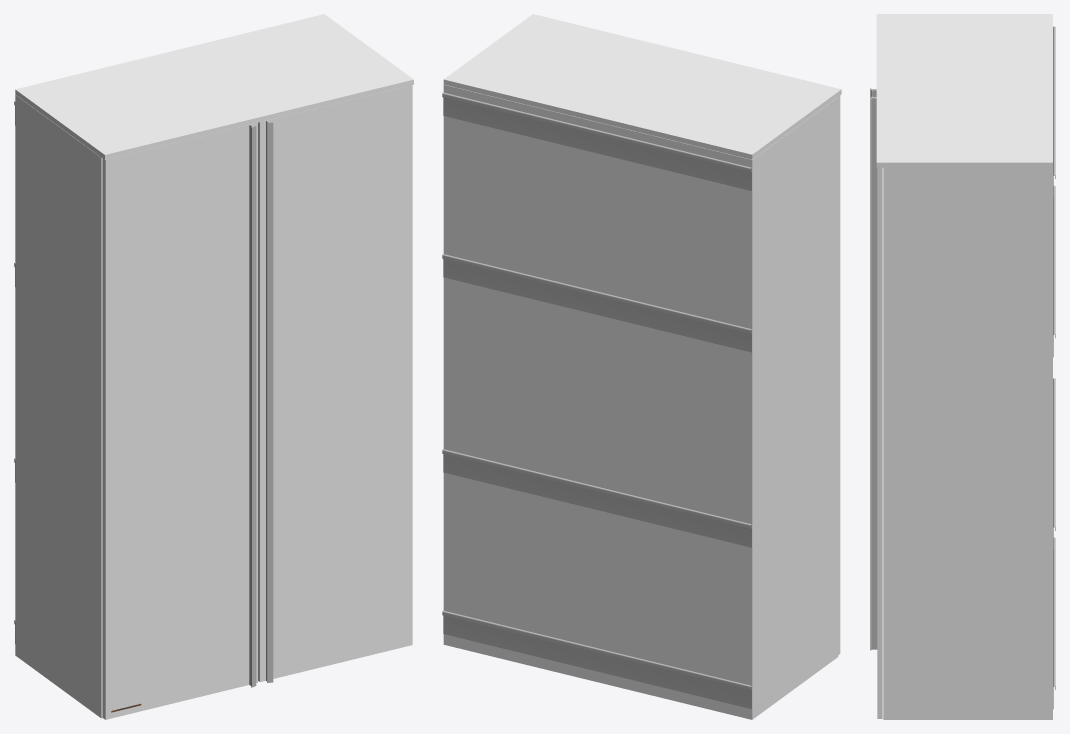
The picture shows the model from 3 angles, left to right: view 1: azimuth 30°, elevation 25°; view 2: azimuth 150°, elevation 25°; view 3: azimuth 270°, elevation 25°; orthographic projection.
Parts seen in each view (by area): view 1: mesh8_mesh8-geometry, mesh10_mesh10-geometry, mesh6_mesh6-geometry, mesh2_mesh2-geometry; view 2: mesh5_mesh5-geometry, mesh6_mesh6-geometry, mesh1_mesh1-geometry, mesh2_mesh2-geometry, mesh3_mesh3-geometry, mesh8_mesh8-geometry; view 3: mesh3_mesh3-geometry, mesh2_mesh2-geometry, mesh10_mesh10-geometry, mesh1_mesh1-geometry.
Part boxes in pixels (x1,y1,x2,y2): mesh8_mesh8-geometry: (102, 122, 257, 719); mesh10_mesh10-geometry: (258, 85, 412, 682); mesh6_mesh6-geometry: (15, 95, 102, 718); mesh2_mesh2-geometry: (15, 14, 413, 159); mesh5_mesh5-geometry: (448, 86, 747, 718); mesh6_mesh6-geometry: (747, 97, 838, 719); mesh1_mesh1-geometry: (442, 92, 752, 709); mesh2_mesh2-geometry: (443, 14, 841, 159); mesh3_mesh3-geometry: (443, 84, 448, 645); mesh8_mesh8-geometry: (838, 95, 840, 654); mesh3_mesh3-geometry: (883, 167, 1052, 719); mesh2_mesh2-geometry: (876, 14, 1052, 167); mesh10_mesh10-geometry: (870, 96, 882, 718); mesh1_mesh1-geometry: (1053, 26, 1055, 709).
Size of the model in its own units: 0.48 by 0.84 by 0.2531.
